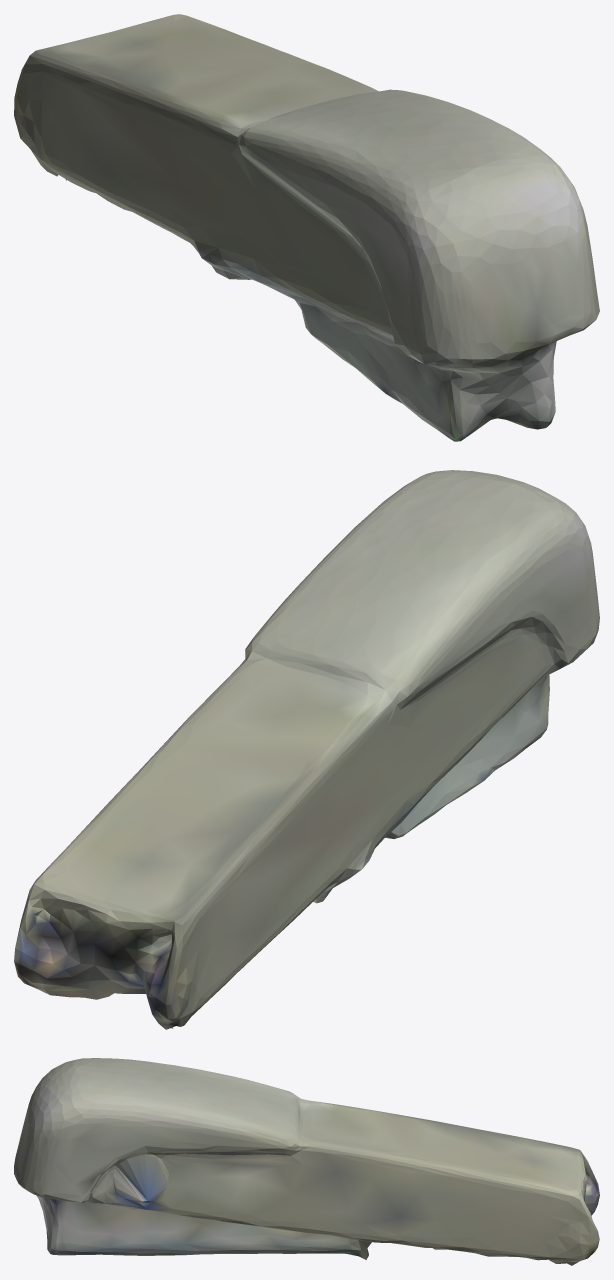
File: scan.obj
The picture shows the model from 3 angles, top to bottom: view 1: azimuth 30°, elevation 25°; view 2: azimuth 150°, elevation 25°; view 3: azimuth 270°, elevation 25°; orthographic projection. The views are drawn at different scales.
Visible parts, largest first — view 1: scan.ply; view 2: scan.ply; view 3: scan.ply.
Boxes of the visible parts, x1,y1,x2,y2 form: scan.ply: [14, 14, 599, 441]; scan.ply: [14, 470, 599, 1029]; scan.ply: [14, 1058, 599, 1265].
Size of the model in its own units: 0.0266 by 0.0399 by 0.1178.
